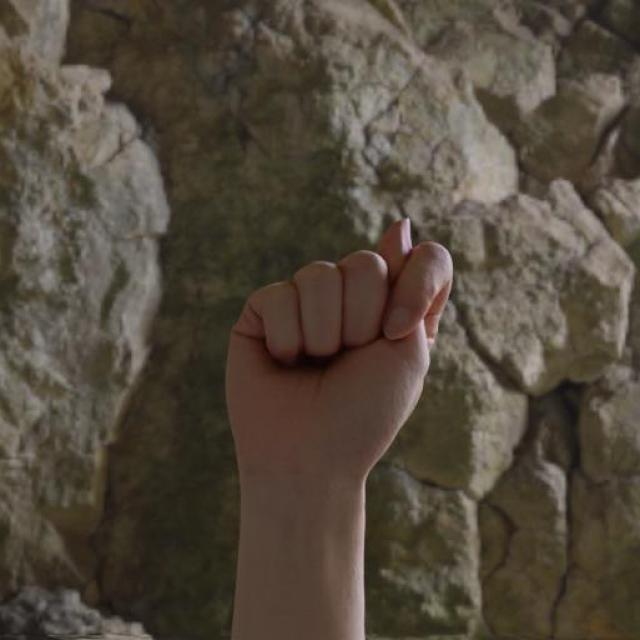T: (219, 198, 458, 498)
